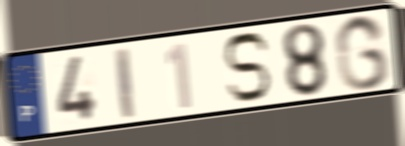1: (164, 40, 193, 111)
4: (54, 53, 100, 125)
8: (281, 21, 329, 98)
G: (333, 12, 392, 93)
I: (112, 45, 138, 122)
S: (220, 30, 272, 105)
